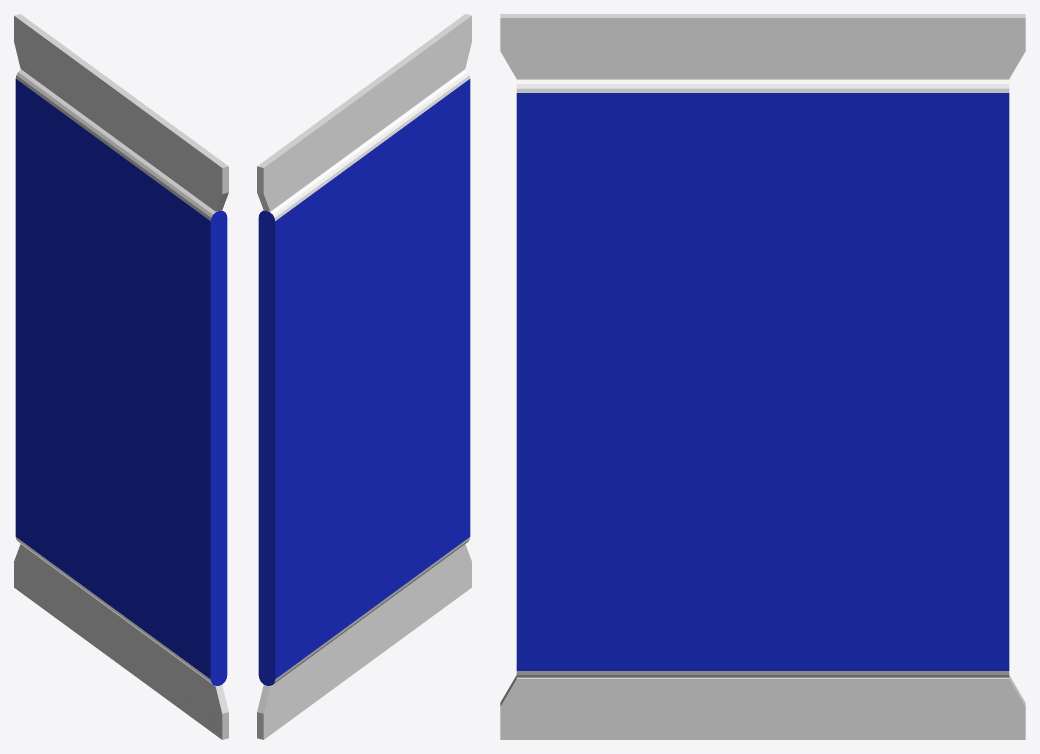
Rendered from booster_pack.fbx.
3 renders of one model, left to right at view 1: azimuth 30°, elevation 25°; view 2: azimuth 150°, elevation 25°; view 3: azimuth 270°, elevation 25°, orthographic. The views are drawn at different scales.
Visible parts, largest first — view 1: Plane; view 2: Plane; view 3: Plane.
Boxes of the visible parts, x1,y1,x2,y2 form: Plane: [14, 14, 228, 739]; Plane: [257, 14, 471, 739]; Plane: [500, 14, 1025, 739].
Size of the model in its own units: 6.06 by 201 by 132.
